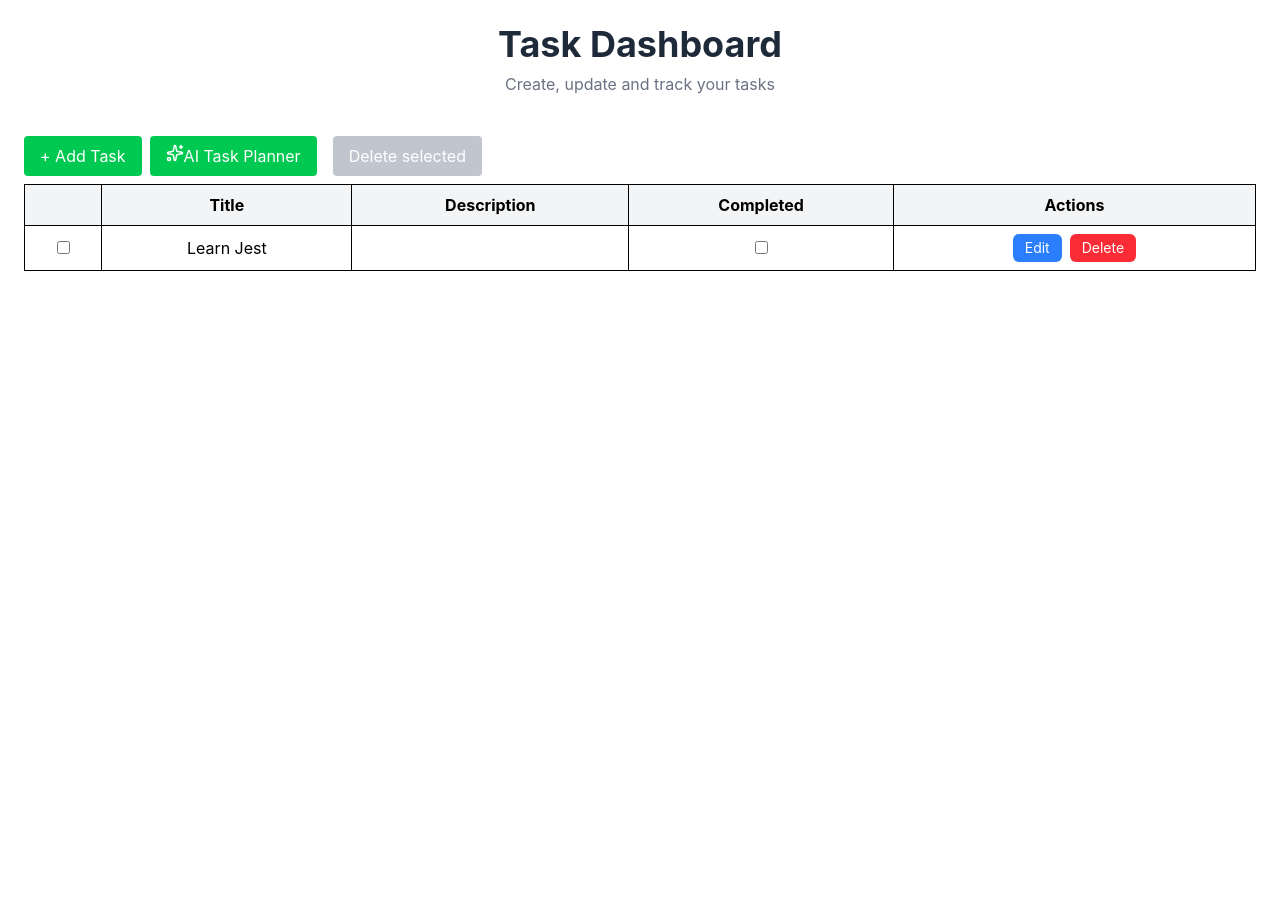
Test: opens edit modal when button clicked
Click the button "Edit": (1037, 248) [1013,234,1062,262]
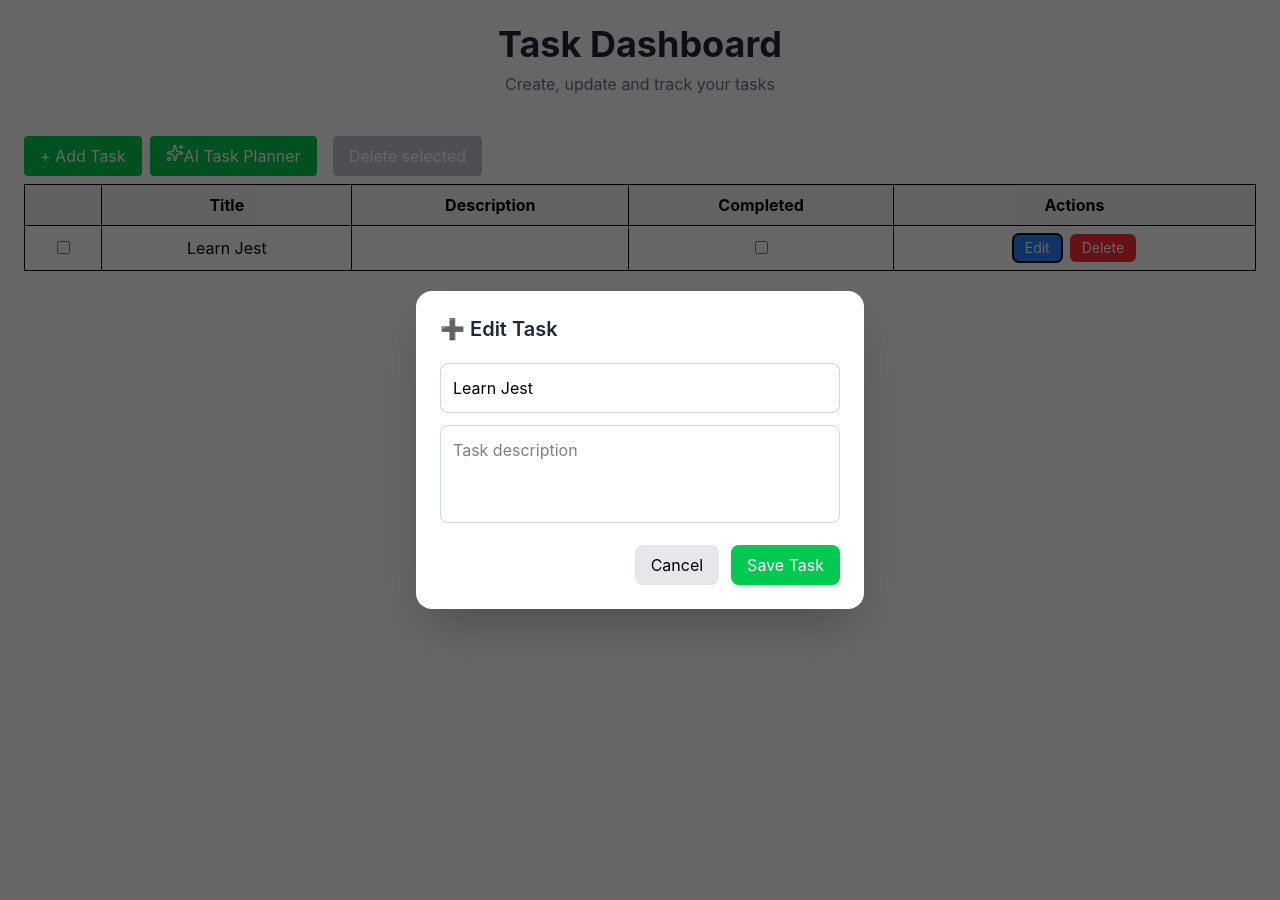
Result: the heading "➕ Edit Task" is shown at [440,317,558,341]
Result: the field showing "learn jest" is shown at [440,363,840,413]
